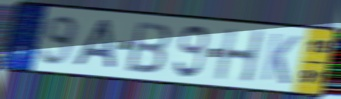9: (38, 14, 80, 67), (174, 24, 209, 78)
A: (71, 18, 117, 71)
B: (126, 19, 173, 75)
H: (214, 27, 266, 84)
K: (258, 31, 302, 87)
